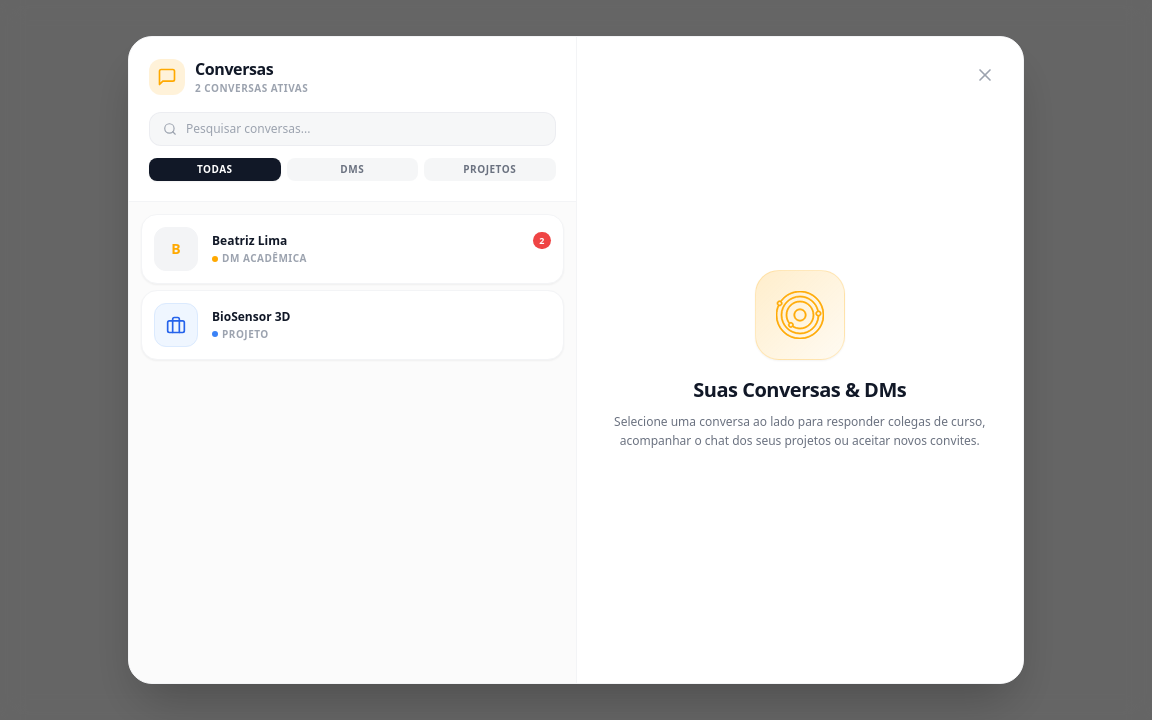
Test: ChatWindow Component (Modal Overlay) › deve filtrar conversas pela barra de busca
Check: the heading "Beatriz Lima" is shown, box [212,232,287,248]
Type "BioSensor" into the field with placeholder "Pesquisar conversas..." at (352, 129), box [149,112,556,146]
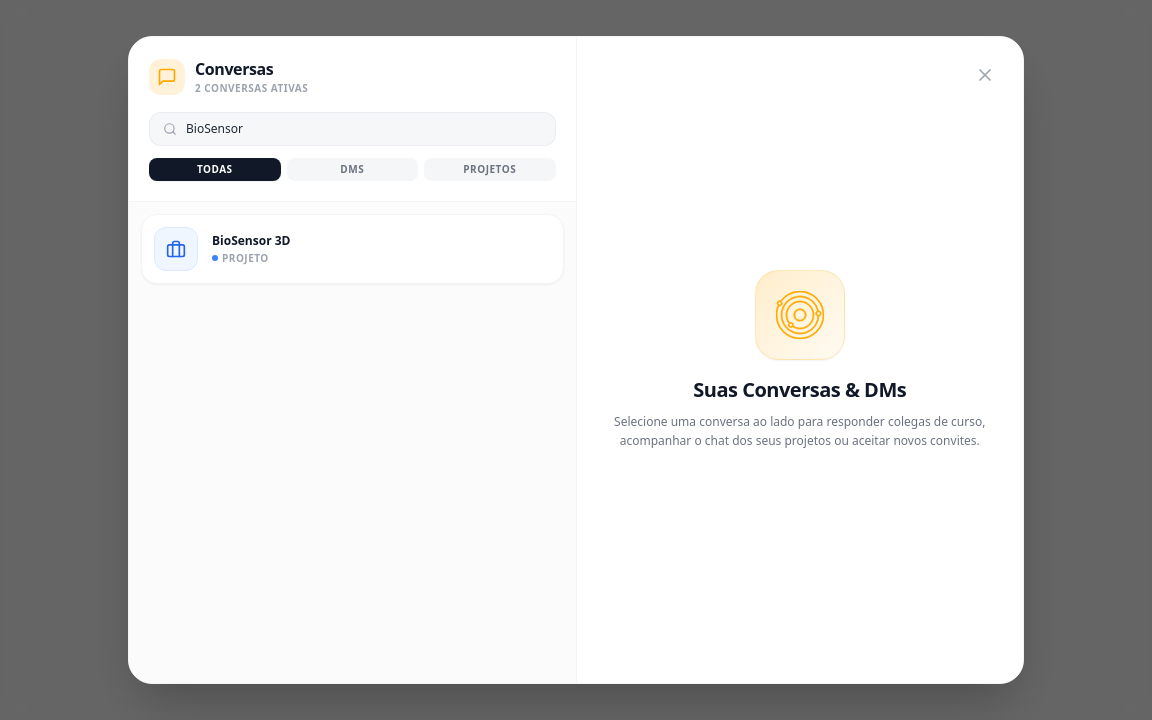
Check: the heading "BioSensor 3D" is shown, box [212,232,290,248]
Check: the button "Beatriz Lima" is gone
